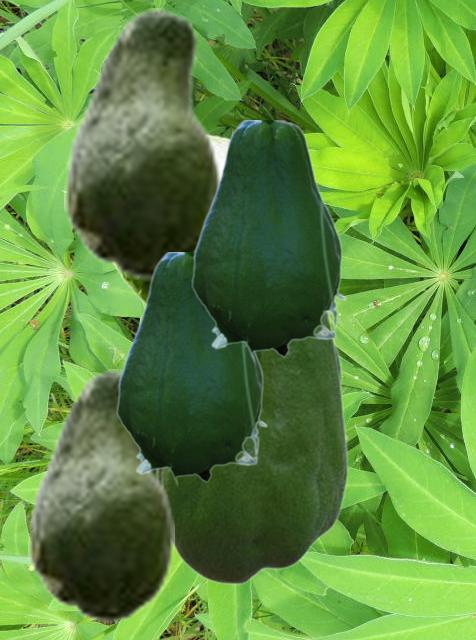sayote: (154, 313, 348, 584), (64, 8, 220, 281), (191, 120, 346, 361), (28, 369, 173, 623), (116, 252, 267, 486), (111, 133, 228, 305)
